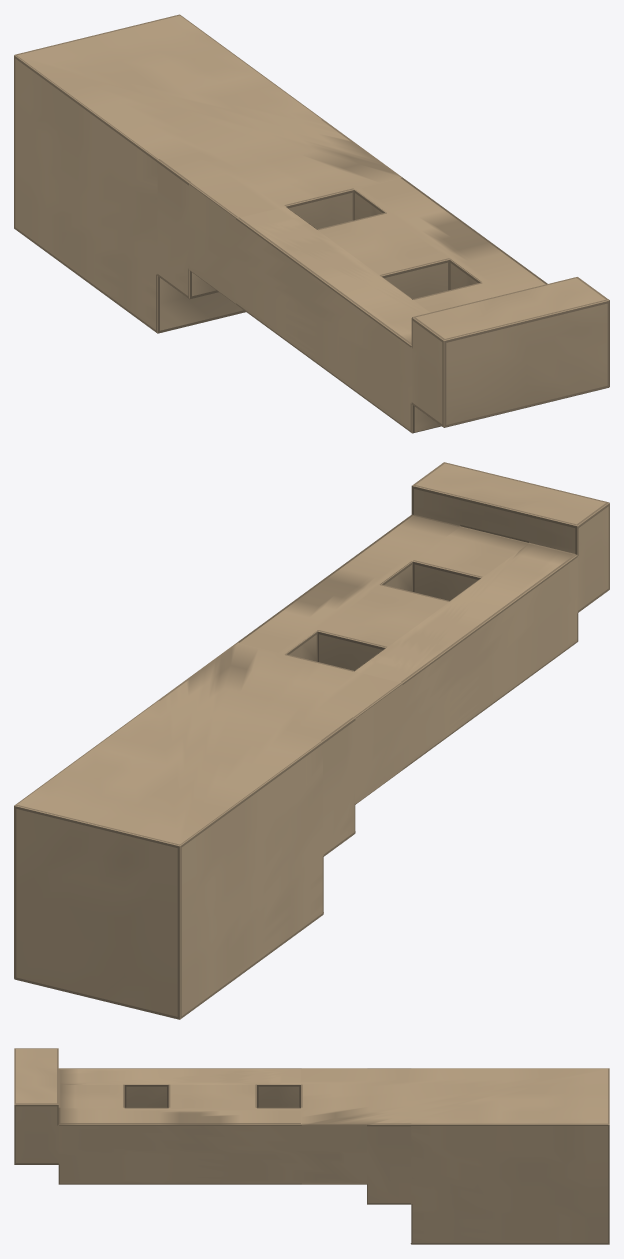
The picture shows the model from 3 angles, top to bottom: view 1: azimuth 30°, elevation 25°; view 2: azimuth 150°, elevation 25°; view 3: azimuth 270°, elevation 25°; orthographic projection. The views are drawn at different scales.
Visible parts, largest first — view 1: part-a; view 2: part-a; view 3: part-a.
Part boxes in pixels (x1,y1,x2,y2): part-a: (14, 14, 609, 433); part-a: (14, 462, 609, 1019); part-a: (14, 1048, 609, 1244).
Bounding box in the file's own units: 0.1208 × 0.1408 × 0.5408.
